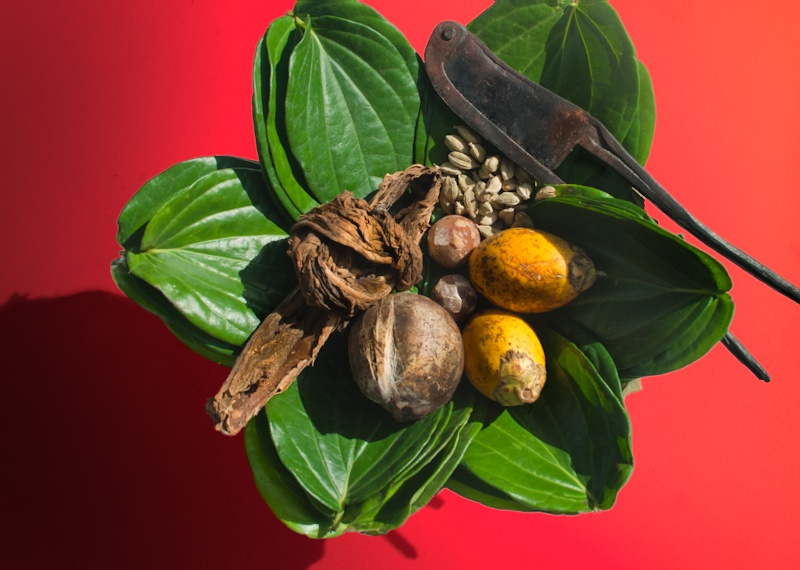bulathwita: (106, 6, 730, 545)
